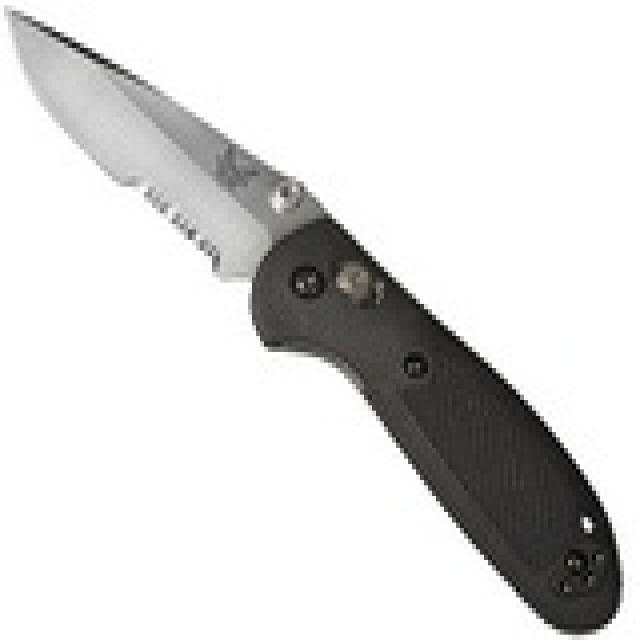Knife: (4, 2, 630, 636)
